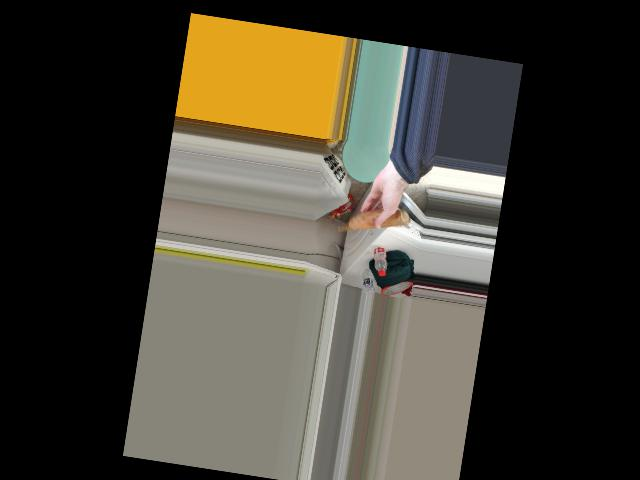sweet_potato: (339, 198, 407, 243)
